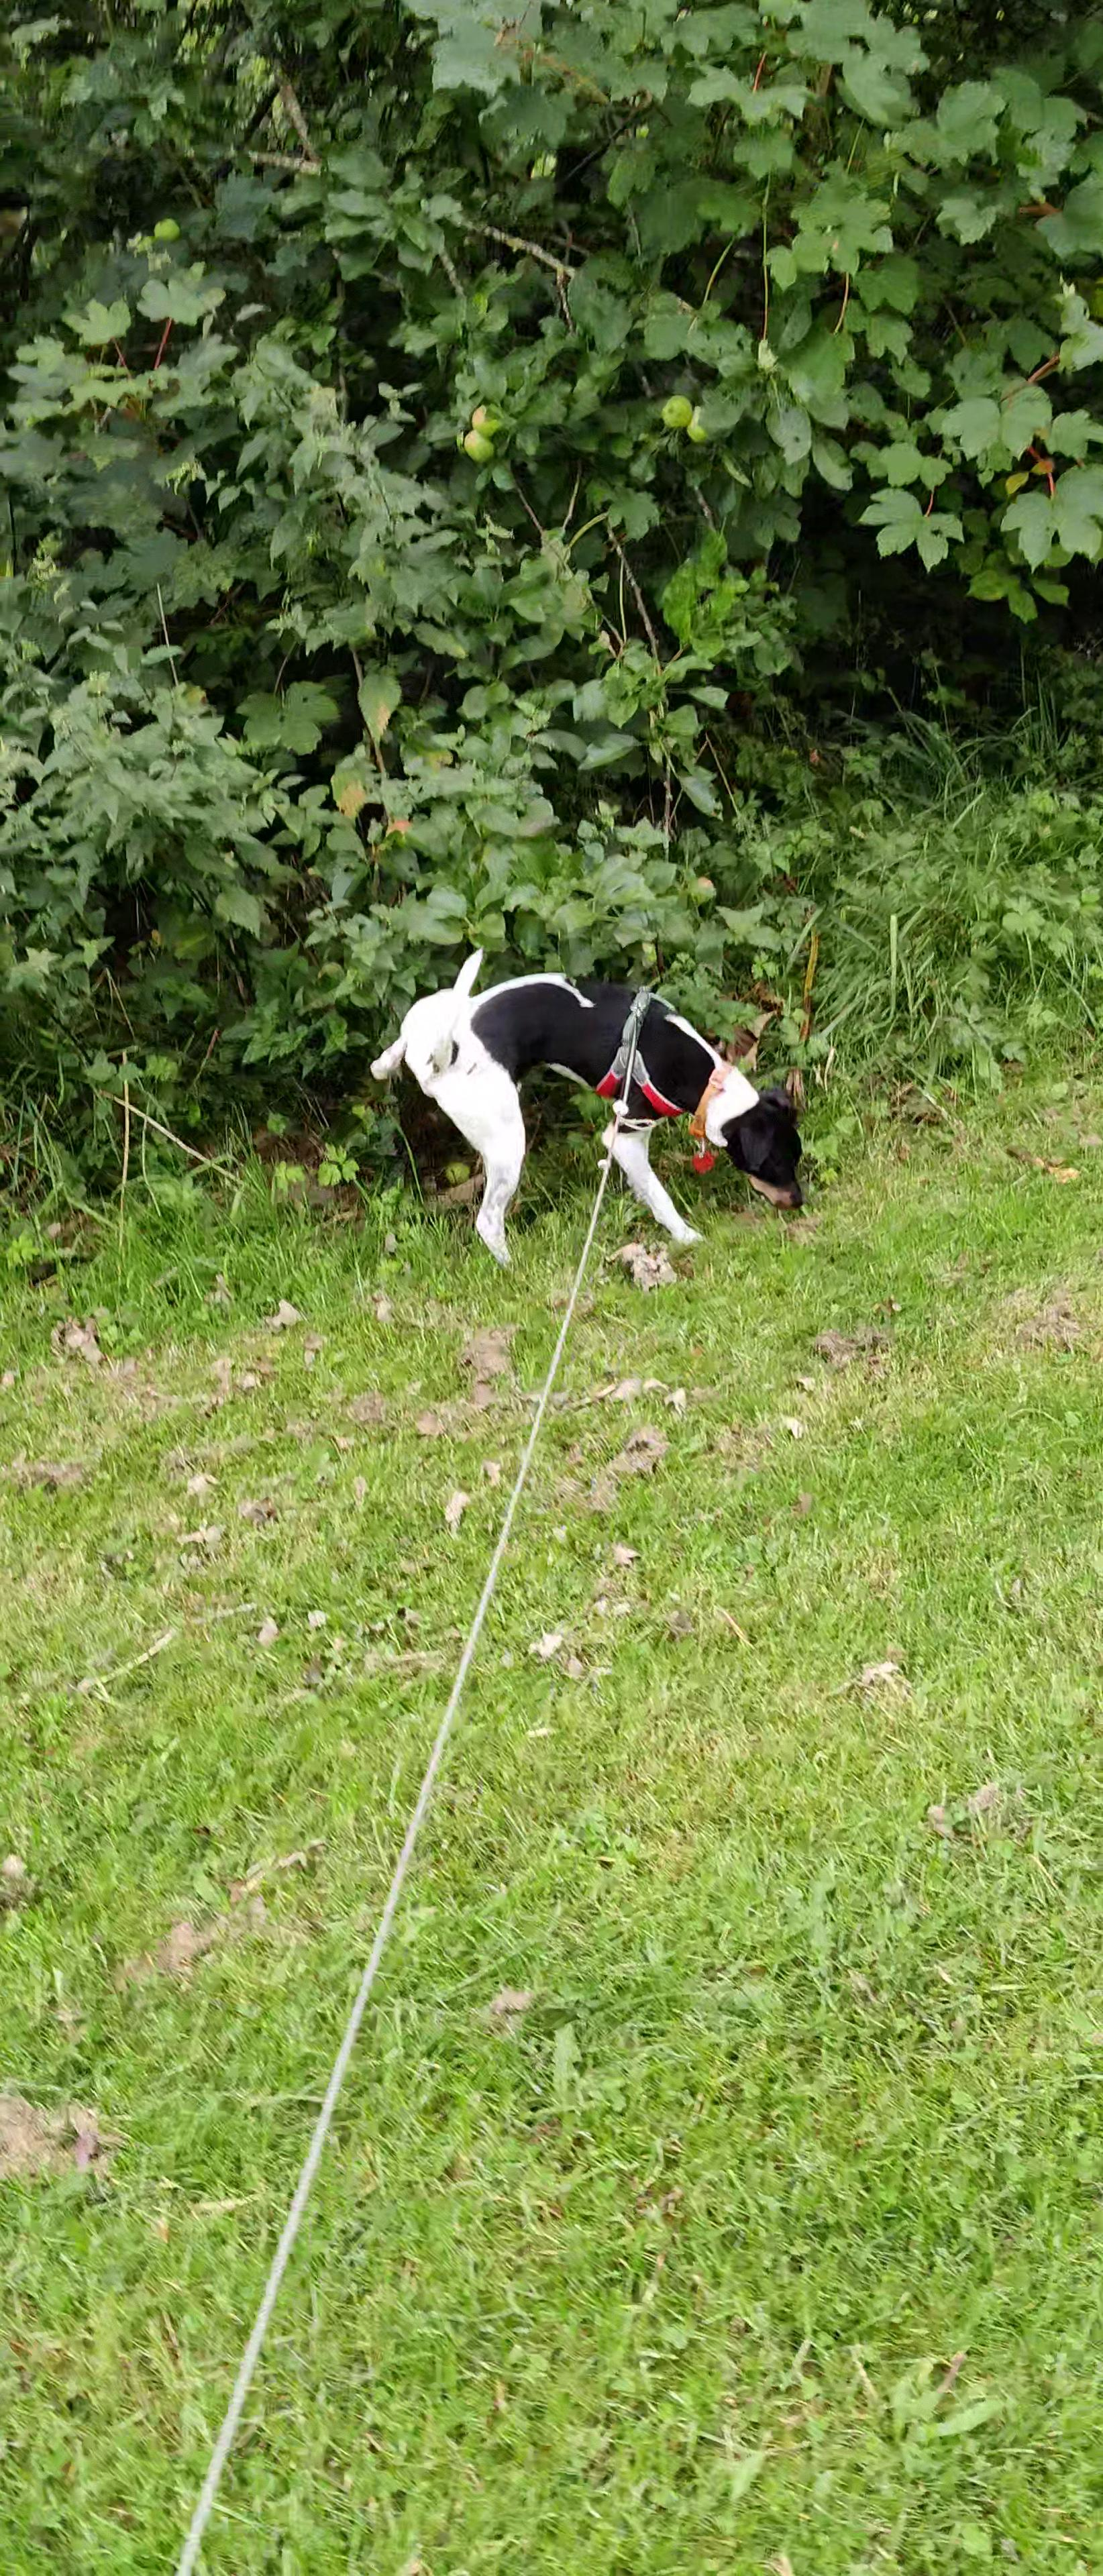Dog: (365, 945, 810, 1268)
